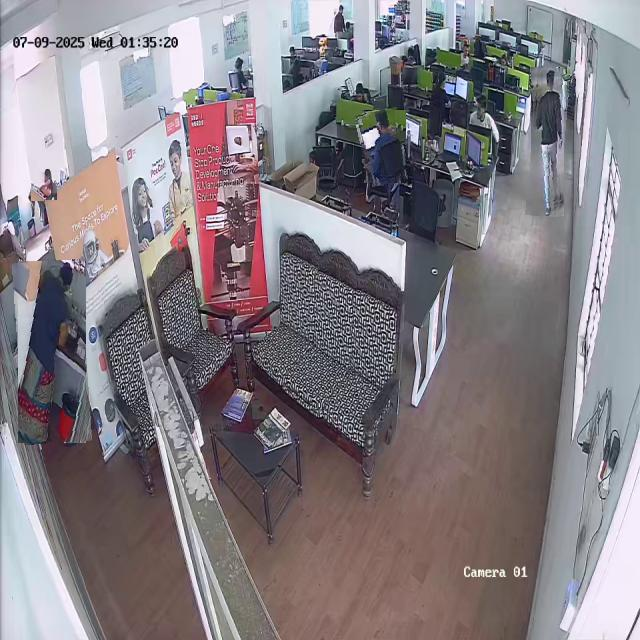person: (15, 260, 89, 444), (528, 67, 567, 216), (358, 108, 410, 185), (31, 169, 58, 202)
